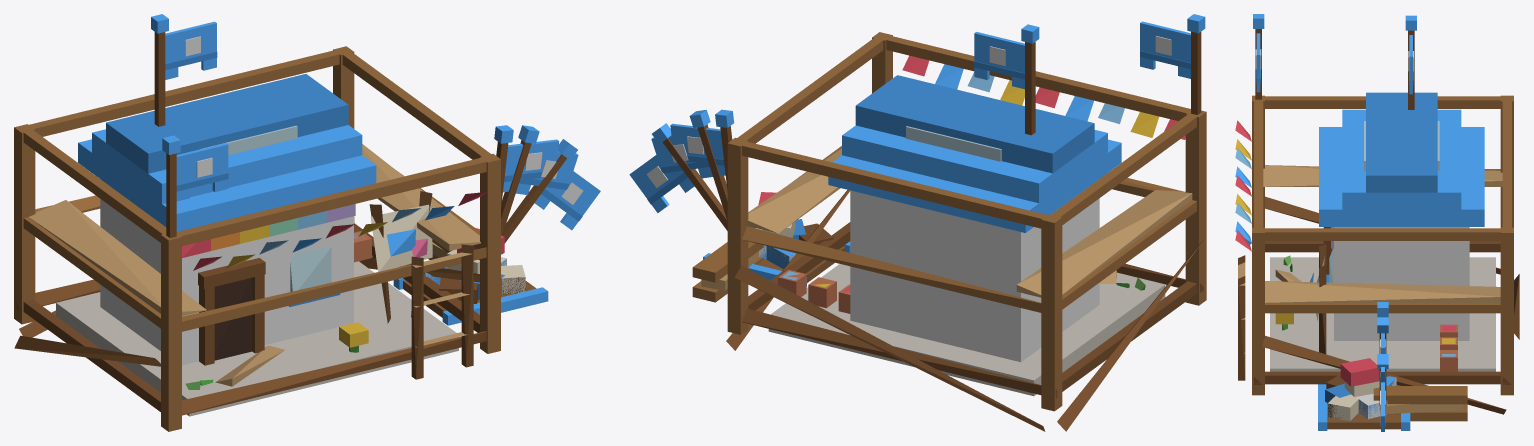
The model's file is butterfly-research.glb.
The picture shows the model from 3 angles, left to right: view 1: azimuth 30°, elevation 25°; view 2: azimuth 150°, elevation 25°; view 3: azimuth 270°, elevation 25°; orthographic projection. The views are drawn at different scales.
Parts seen in each view (by area): view 1: scaffold-mesh, built-mesh, dismantle-75-mesh, dismantle-50-mesh, scaffold-banner, banner, dismantle-25-banner, dismantle-75-banner, dismantle-25-mesh, flag-pole, dismantle-25-flag-pole, scaffold-flag-pole (+3 smaller); view 2: scaffold-mesh, built-mesh, dismantle-75-mesh, banner, scaffold-banner, dismantle-25-banner, dismantle-50-mesh, dismantle-75-banner, flag-pole, dismantle-25-flag-pole, scaffold-flag-pole, dismantle-50-banner (+3 smaller); view 3: scaffold-mesh, built-mesh, dismantle-75-mesh, dismantle-50-mesh, dismantle-25-mesh, flag-pole, scaffold-flag-pole, scaffold-banner, dismantle-25-flag-pole, banner.
Boxes of the visible parts, x1,y1,x2,y2 form: scaffold-mesh: (14,46,500,431); built-mesh: (78,74,458,416); dismantle-75-mesh: (56,193,548,398); dismantle-50-mesh: (215,231,525,386); scaffold-banner: (176,143,228,201); banner: (165,21,217,79); dismantle-25-banner: (534,164,600,230); dismantle-75-banner: (503,139,559,192); dismantle-25-mesh: (354,228,547,325); flag-pole: (151,14,168,126); dismantle-25-flag-pole: (502,139,577,243); scaffold-flag-pole: (162,135,180,237); scaffold-mesh: (692,32,1206,431); built-mesh: (768,75,1128,396); dismantle-75-mesh: (755,203,1164,380); banner: (974,32,1024,89); scaffold-banner: (1140,21,1190,78); dismantle-25-banner: (629,147,694,212); dismantle-50-mesh: (759,223,1145,307); dismantle-75-banner: (670,123,725,175); flag-pole: (1021,24,1039,135); dismantle-25-flag-pole: (652,123,727,230); scaffold-flag-pole: (1187,14,1205,114); dismantle-50-banner: (651,135,712,183); scaffold-mesh: (1235,95,1519,421); built-mesh: (1292,92,1484,354); dismantle-75-mesh: (1270,227,1495,430); dismantle-50-mesh: (1275,259,1469,429); dismantle-25-mesh: (1318,332,1469,430); flag-pole: (1405,15,1416,109); scaffold-flag-pole: (1253,14,1264,99); scaffold-banner: (1255,33,1261,92); dismantle-25-flag-pole: (1377,354,1388,405); banner: (1408,35,1413,94).
Bounding box in the file's own units: 2.67 × 1.73 × 1.51.
